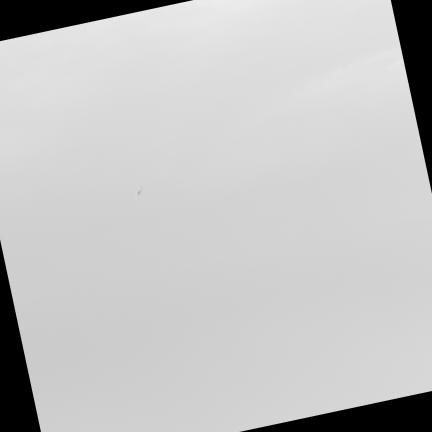Shahed: (135, 185, 142, 200)
